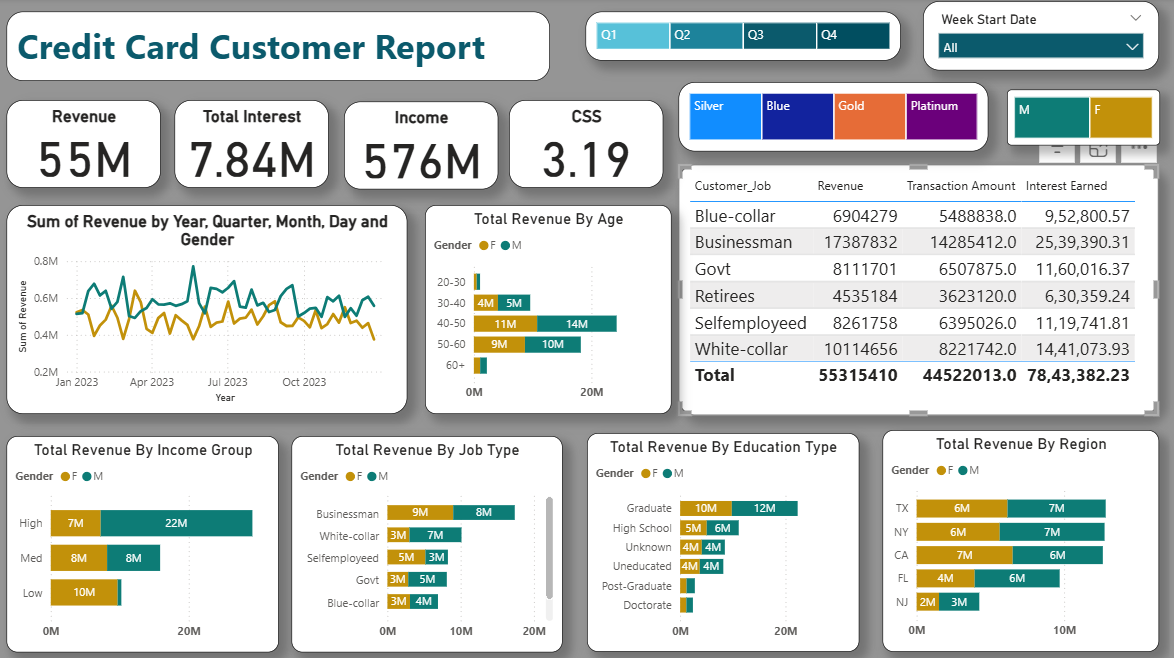

The page's visual inventory and layout, read from the dashboard file:
{"tool":"powerbi","page":{"name":"CC_Customer_details","canvas":[1280,720],"ordinal":1},"visuals":[{"type":"textbox","box":[10.9,14.1,589.2,75],"z":0},{"type":"tableEx","fields":{"Values":["customer.Customer_Job","Sum(credit_card.Revenue)","Sum(credit_card.Total_Trans_Amt)","Sum(credit_card.Interest_Earned)"]},"box":[740.9,179.7,520.5,272],"z":1000},{"type":"card","title":"Revenue","fields":{"Values":["Sum(credit_card.Revenue)"]},"box":[10.9,111,167.2,95.3],"z":2000},{"type":"card","title":"Income","fields":{"Values":["Sum(customer.Income)"]},"box":[376.7,112.5,167.2,95.3],"z":3000},{"type":"card","title":"Total Interest","fields":{"Values":["Sum(credit_card.Interest_Earned)"]},"box":[193.8,111,167.2,95.3],"z":4000},{"type":"card","title":"CSS","fields":{"Values":["Avg(customer.Cust_Satisfaction_Score)"]},"box":[556.4,111,167.2,95.3],"z":5000},{"type":"treemap","fields":{"Group":["credit_card.Qtr"],"Values":["Min(credit_card.Credit_Limit)"]},"box":[639.3,14.1,342.3,53.1],"z":6000},{"type":"lineChart","fields":{"Y":["Sum(credit_card.Revenue)"],"Series":["customer.Gender"],"Category":["credit_card.Week_Start_Date.Variation.Date Hierarchy.Year","credit_card.Week_Start_Date.Variation.Date Hierarchy.Quarter","credit_card.Week_Start_Date.Variation.Date Hierarchy.Month","credit_card.Week_Start_Date.Variation.Date Hierarchy.Day"]},"box":[10.9,225.1,434.5,226.6],"z":7000},{"type":"treemap","fields":{"Group":["customer.Gender"],"Values":["Sum(credit_card.Revenue)"]},"box":[1095.7,98.5,165.7,61],"z":8000},{"type":"barChart","title":"Total Revenue By Income Group","fields":{"Category":["customer.IncomeGroup"],"Y":["Sum(credit_card.Revenue)"],"Series":["customer.Gender"]},"box":[10.9,475.1,295.4,234.4],"z":9000},{"type":"barChart","title":"Total Revenue By Age","fields":{"Y":["Sum(credit_card.Revenue)"],"Category":["customer.AgeGroup"],"Series":["customer.Gender"]},"box":[465.8,225.1,267.3,226.6],"z":10000},{"type":"barChart","title":"Total Revenue By Job Type","fields":{"Y":["Sum(credit_card.Revenue)"],"Category":["customer.Customer_Job"],"Series":["customer.Gender"]},"box":[320.4,475.1,293.8,234.4],"z":11000},{"type":"barChart","title":"Total Revenue By Education Type","fields":{"Y":["Sum(credit_card.Revenue)"],"Category":["customer.Education_Level"],"Series":["customer.Gender"]},"box":[640.8,472,295.4,237.6],"z":12000},{"type":"slicer","fields":{"Values":["credit_card.Week_Start_Date"]},"box":[1005,3.1,256.3,75],"z":13000},{"type":"treemap","fields":{"Group":["credit_card.Card_Category"],"Values":["Avg(credit_card.Client_Num)"]},"box":[740.9,90.7,336,75],"z":14000},{"type":"barChart","title":"Total Revenue By Region","fields":{"Y":["Sum(credit_card.Revenue)"],"Category":["customer.state_cd"],"Series":["customer.Gender"]},"box":[961.2,468.9,300.1,240.7],"z":15000}]}

Visuals, with their boxes in screenshot pixels (x1, y1, x2, y2), scaled from the page's 1280x720 canvas onto the 1174x658 screenshot:
textbox: left=10, top=13, right=550, bottom=81
tableEx - customer.Customer_Job x Sum(credit_card.Revenue): left=680, top=164, right=1157, bottom=413
"Revenue" card: left=10, top=101, right=163, bottom=189
"Income" card: left=346, top=103, right=499, bottom=190
"Total Interest" card: left=178, top=101, right=331, bottom=189
"CSS" card: left=510, top=101, right=664, bottom=189
treemap - credit_card.Qtr x Min(credit_card.Credit_Limit): left=586, top=13, right=900, bottom=61
lineChart - Sum(credit_card.Revenue) x customer.Gender: left=10, top=206, right=409, bottom=413
treemap - customer.Gender x Sum(credit_card.Revenue): left=1005, top=90, right=1157, bottom=146
"Total Revenue By Income Group" barChart: left=10, top=434, right=281, bottom=648
"Total Revenue By Age" barChart: left=427, top=206, right=672, bottom=413
"Total Revenue By Job Type" barChart: left=294, top=434, right=563, bottom=648
"Total Revenue By Education Type" barChart: left=588, top=431, right=859, bottom=648
slicer - credit_card.Week_Start_Date: left=922, top=3, right=1157, bottom=71
treemap - credit_card.Card_Category x Avg(credit_card.Client_Num): left=680, top=83, right=988, bottom=151
"Total Revenue By Region" barChart: left=882, top=429, right=1157, bottom=648
